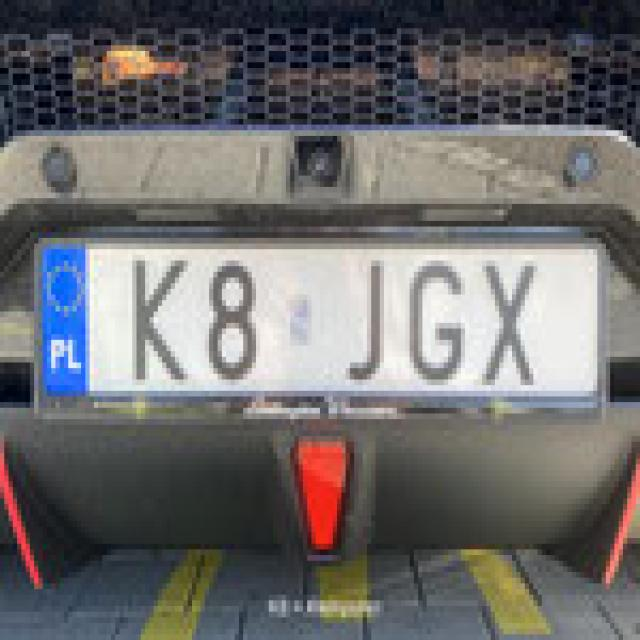pl_license_plate: (38, 238, 593, 391)
